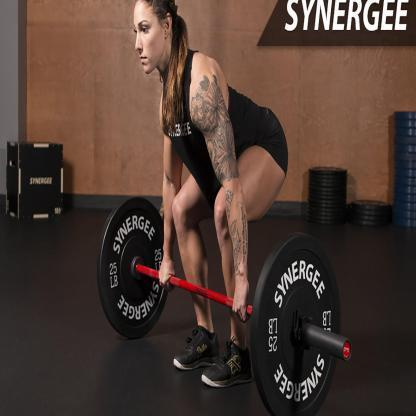barbell: (96, 196, 350, 416)
